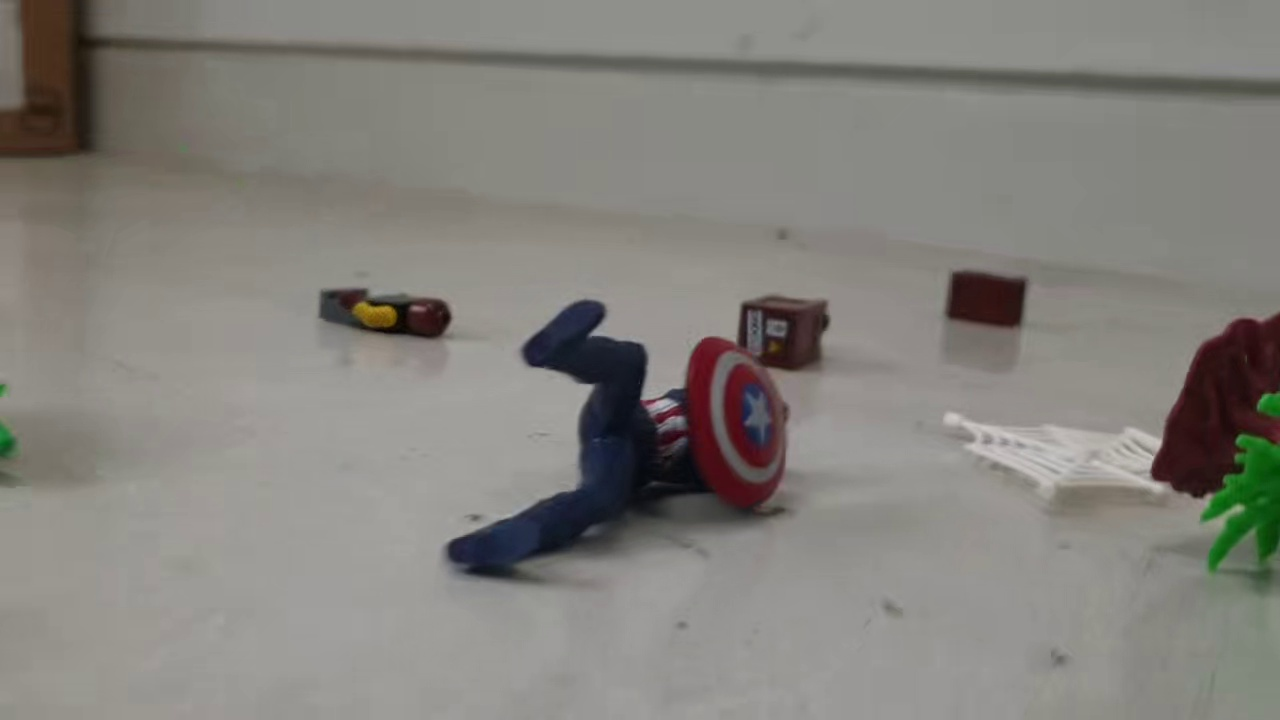box: (734, 289, 835, 373), (938, 266, 1028, 334)
people: (439, 295, 787, 580), (316, 286, 454, 341)
tree: (1151, 309, 1280, 574)
web: (937, 406, 1203, 509)
